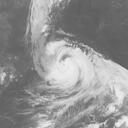cyclone: (36, 36, 96, 91)
